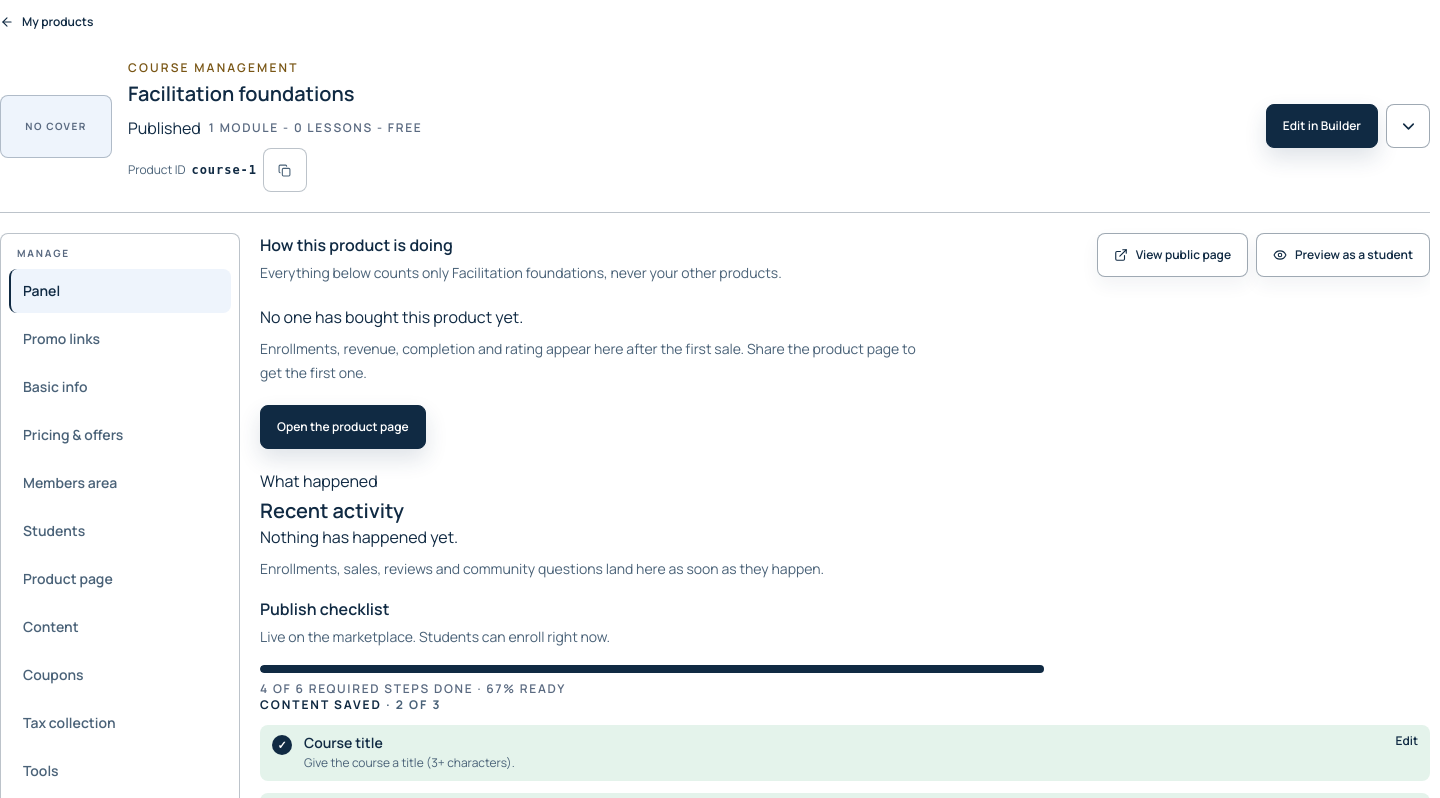
Test case: modal de excluir/arquivar — o texto segue o dado › se o servidor recusar, diz que nada foi apagado (e não fala mais em rascunho)
The image size is (1440, 798).
Click the button named "More actions for Facilitation foundations" at (1408, 126), box [1386,104,1430,148]
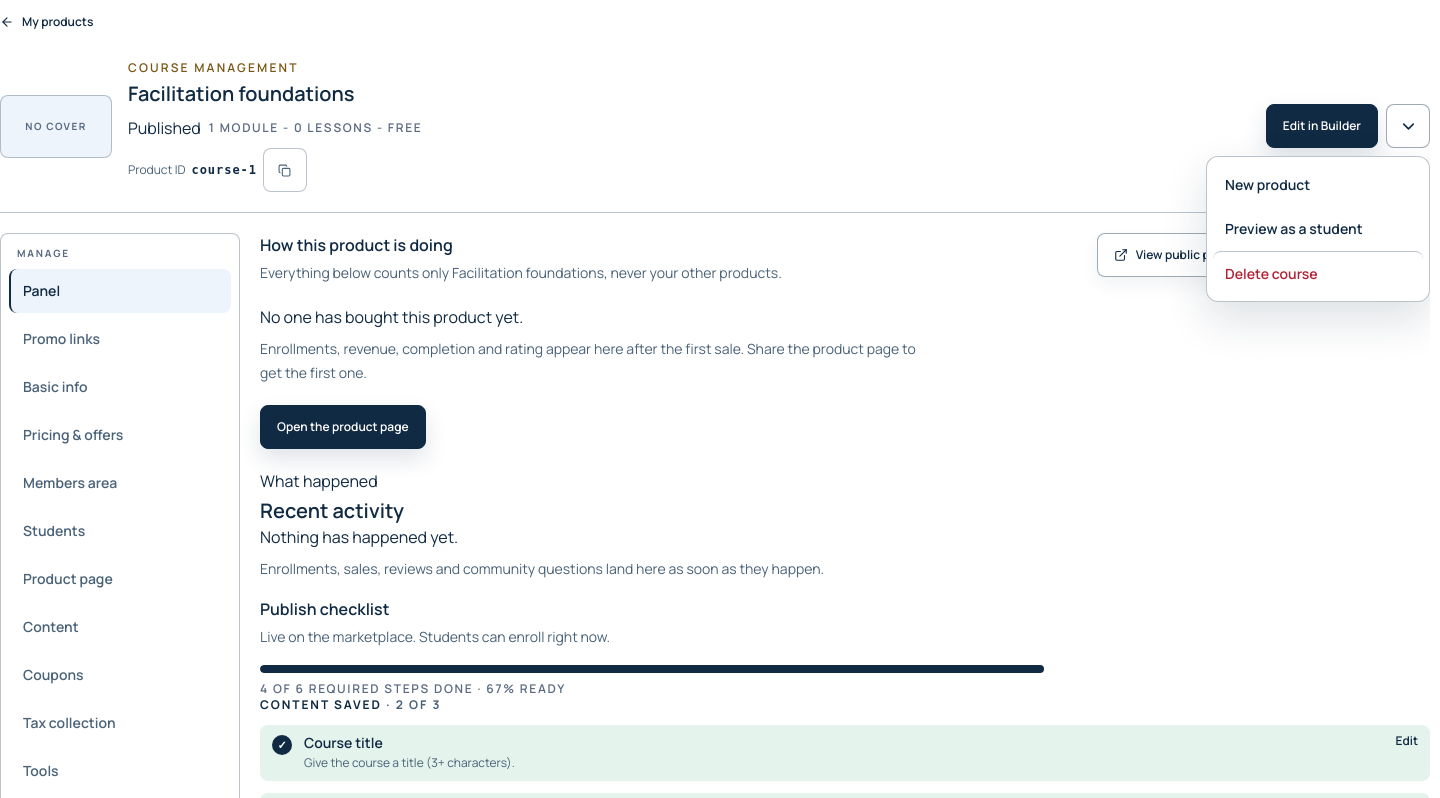
Click the menu item "Delete course" at (1318, 273), box [1213,251,1423,295]
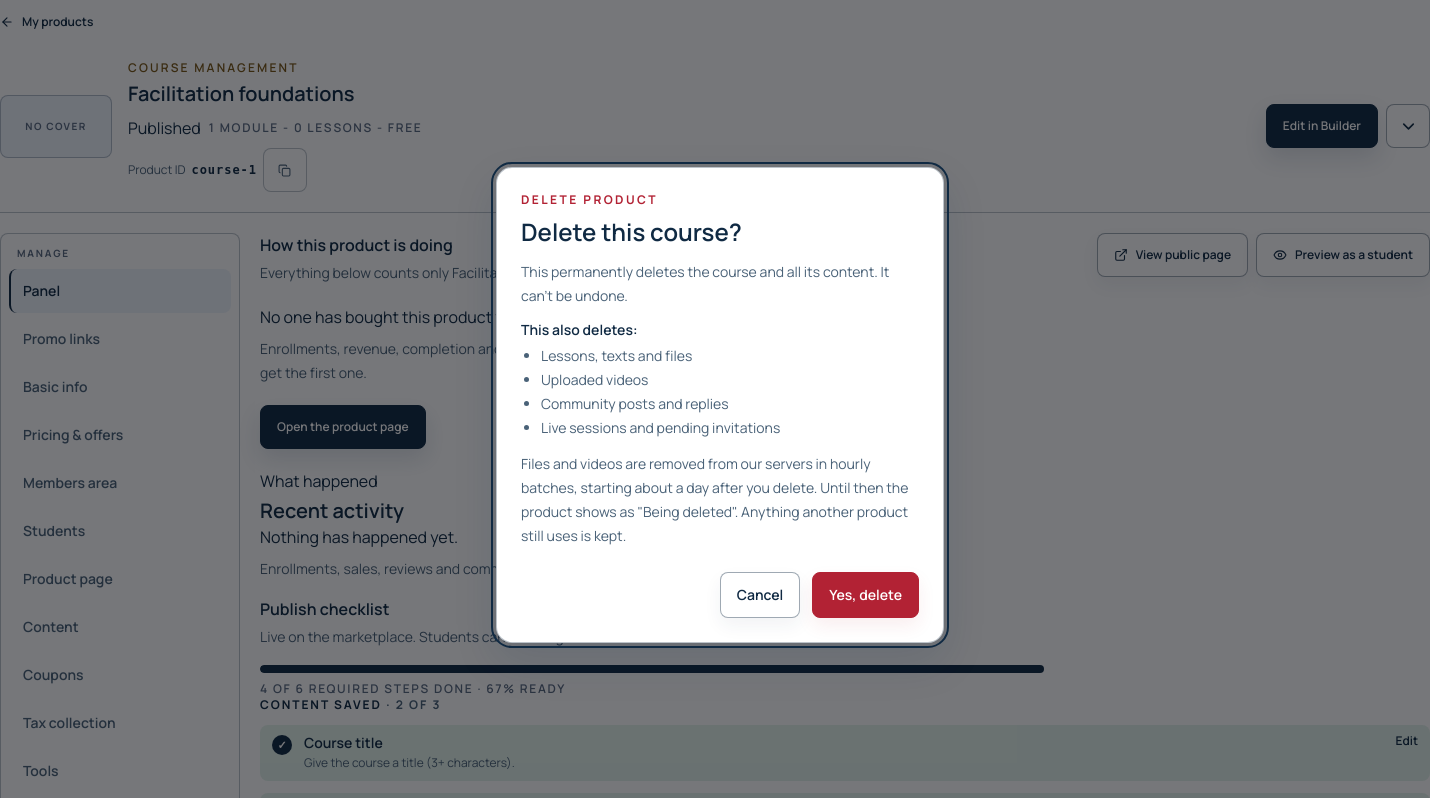
Click the button "Yes, delete" at (866, 595), box [812,572,919,618]
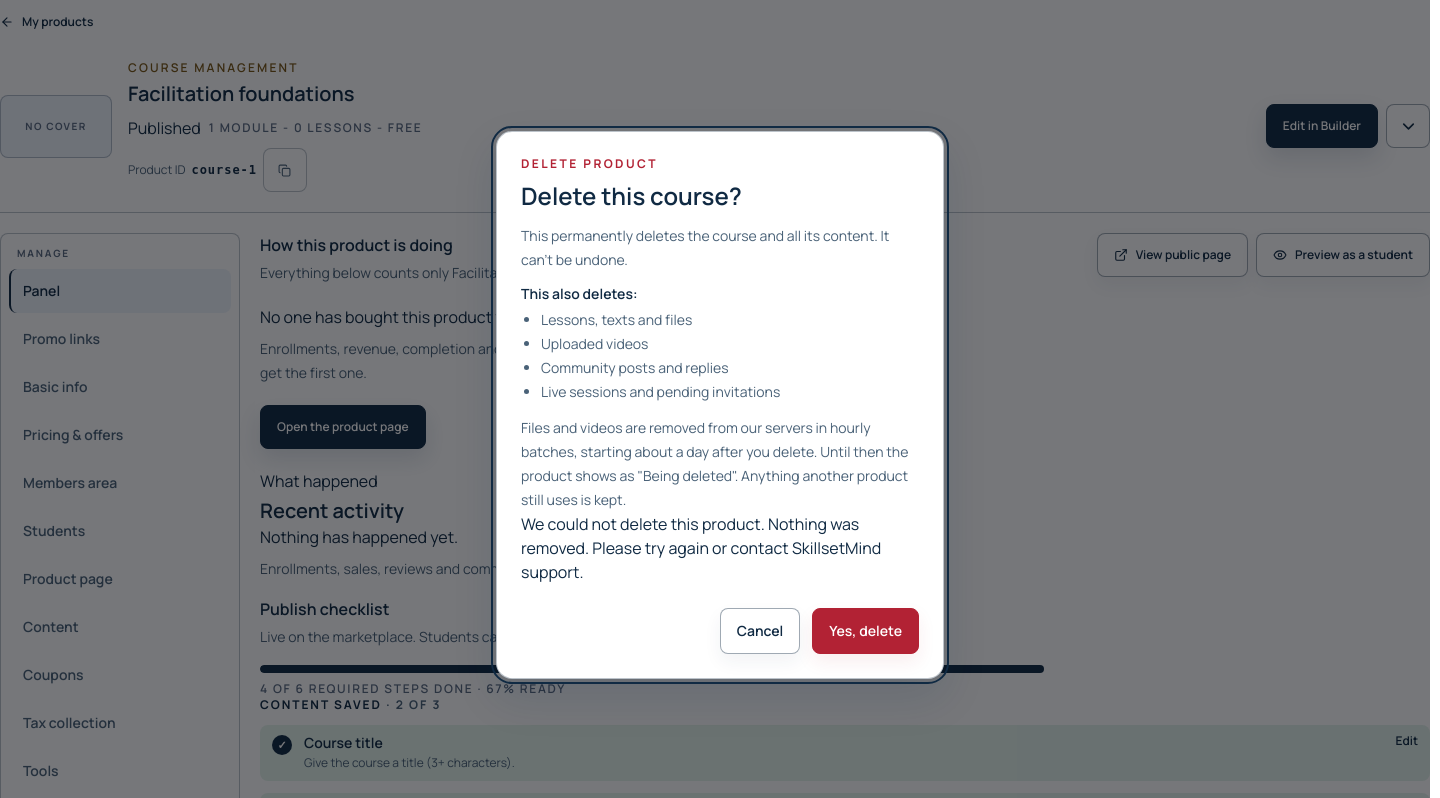
Check: the text "We could not delete this product. Nothing was removed. Please try again or contact SkillsetMind support." is shown, box [521,513,881,583]
